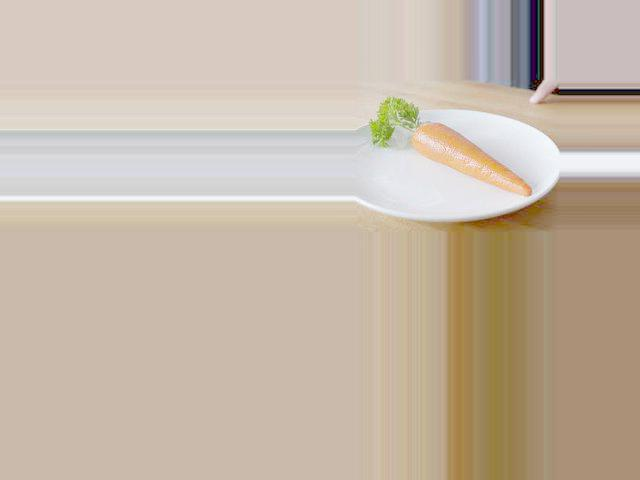carrot: (404, 118, 535, 195)
